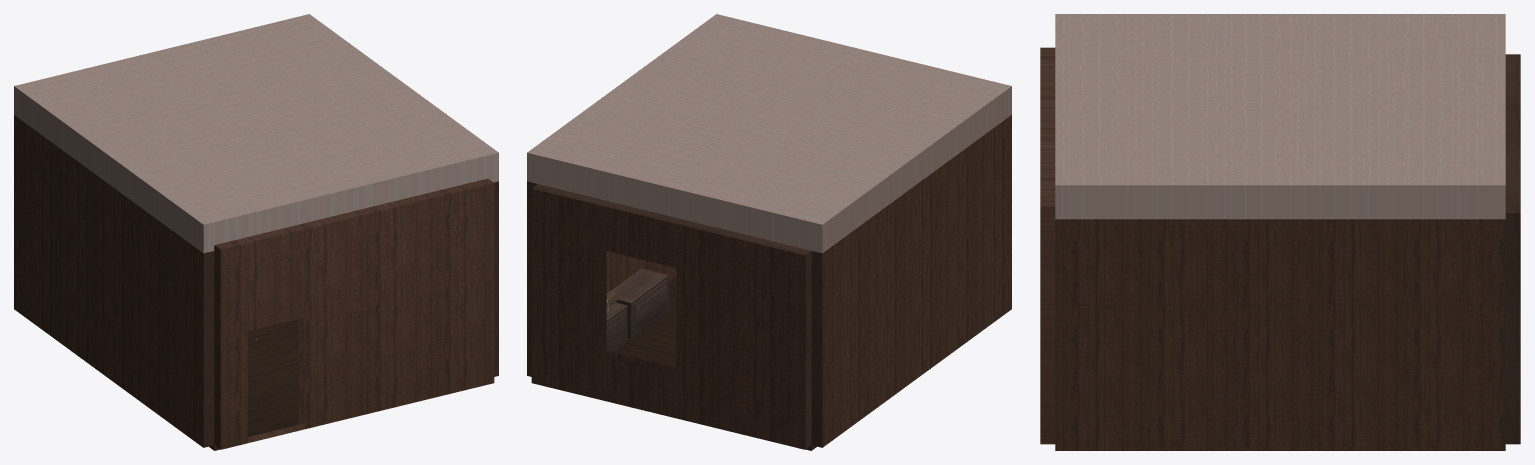
The model's file is BgMD_Tanihira_KyoujuRoomAll_01.fbx.
The picture shows the model from 3 angles, left to right: view 1: azimuth 30°, elevation 25°; view 2: azimuth 150°, elevation 25°; view 3: azimuth 270°, elevation 25°; orthographic projection. The views are drawn at different scales.
Visible parts, largest first — view 1: pCube64; view 2: pCube64; view 3: pCube64.
Boxes of the visible parts, x1,y1,x2,y2 form: pCube64: (14, 14, 498, 450); pCube64: (527, 14, 1011, 450); pCube64: (1040, 14, 1520, 450).
Size of the model in its own units: 540 by 400 by 640.
